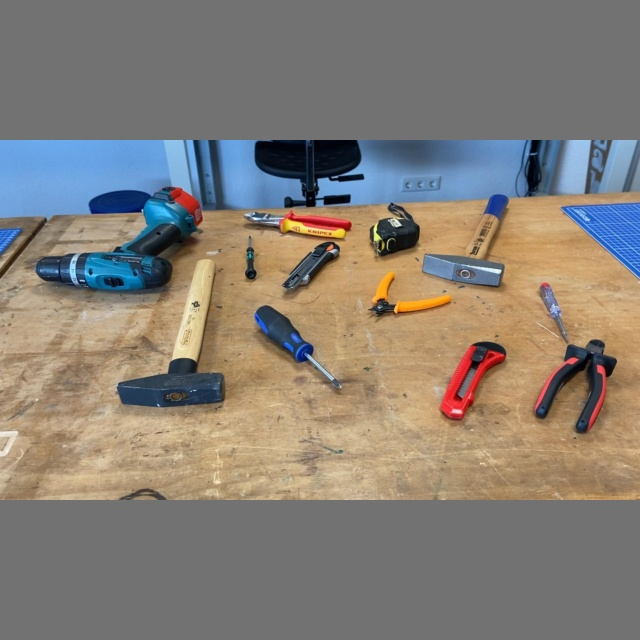drill: (33, 184, 206, 293)
screwdriver: (252, 303, 345, 393), (536, 279, 572, 346), (244, 234, 258, 281)
